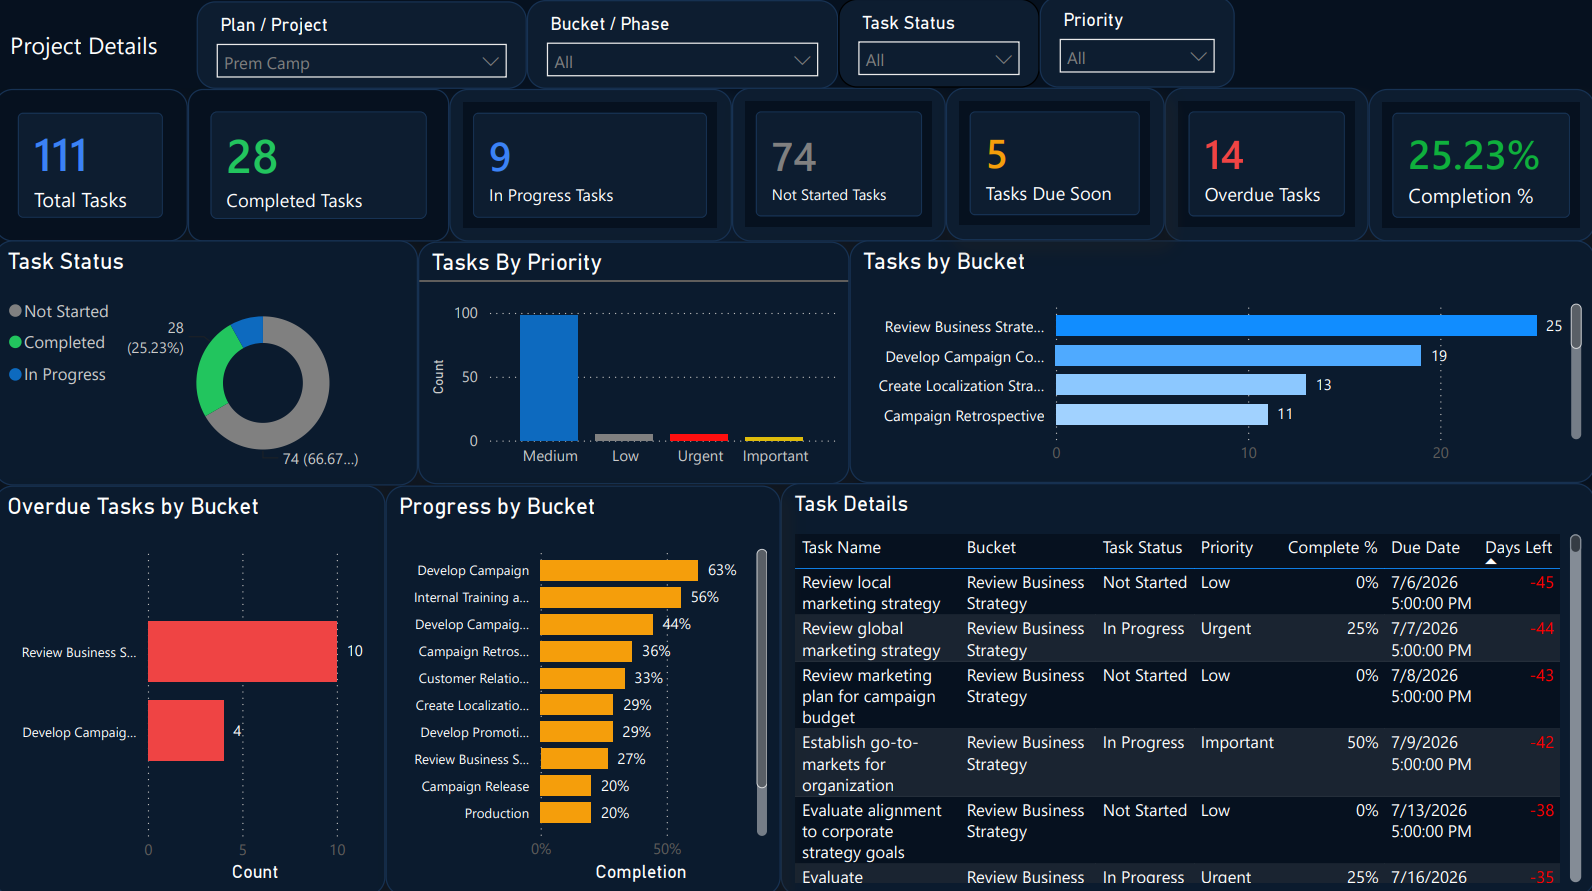

The page's visual inventory and layout, read from the dashboard file:
{"tool":"powerbi","page":{"name":" Premium Project Details","canvas":[1280,720],"ordinal":2},"visuals":[{"type":"cardVisual","title":"a","fields":{"Data":["msdyn_projecttask.Premium Total Tasks"]},"box":[0,74.8,154.7,122.2],"z":0},{"type":"cardVisual","fields":{"Data":["msdyn_projecttask.Premium Completed Tasks"]},"box":[154.7,74.8,209.3,122.2],"z":1000},{"type":"cardVisual","fields":{"Data":["msdyn_projecttask.Premium In Progress Tasks"]},"box":[364,74.8,225.6,122.2],"z":2000},{"type":"cardVisual","fields":{"Data":["msdyn_projecttask.Premium Not Started Tasks"]},"box":[589.6,74.1,171.6,122.9],"z":3000},{"type":"cardVisual","fields":{"Data":["msdyn_projecttask.Premium Overdue Tasks"]},"box":[936.1,74.1,163.2,122.9],"z":4000},{"type":"cardVisual","fields":{"Data":["msdyn_projecttask.Premium Completion %"]},"box":[1099.3,74.8,180.7,122.2],"z":5000},{"type":"donutChart","title":"Task Status","fields":{"Category":["msdyn_projecttask.Premium Task Status"],"Y":["CountNonNull(msdyn_projecttask.Project task ID)"]},"box":[0,196.5,339.3,195.7],"z":6000},{"type":"clusteredColumnChart","title":"Tasks By Priority","fields":{"Category":["msdyn_projecttask.Premium Priority Name"],"Y":["CountNonNull(msdyn_projecttask.Project task ID)"]},"box":[339.3,197.2,344.7,194],"z":7000},{"type":"clusteredBarChart","title":"Tasks by Bucket","fields":{"Category":["msdyn_projecttask.Project Bucket"],"Y":["CountNonNull(msdyn_projecttask.Project task ID)"]},"box":[683.9,195.7,596.1,194.2],"z":8000},{"type":"cardVisual","fields":{"Data":["msdyn_projecttask.Premium Tasks Due Soon"]},"box":[761.3,74.4,174.9,121.3],"z":9000},{"type":"tableEx","title":"Task Details","fields":{"Values":["msdyn_projecttask.Project Task Name","msdyn_projecttask.Project Bucket","msdyn_projecttask.Premium Task Status","msdyn_projecttask.Premium Priority Name","msdyn_projecttask.% Complete","msdyn_projecttask.Due Date","msdyn_projecttask.Days Left"]},"box":[628.8,390,651.2,330.4],"z":10000},{"type":"textbox","title":"Project Details","box":[7.7,4.9,154.3,69.1],"z":11000},{"type":"slicer","fields":{"Values":["msdyn_project.Name"]},"box":[162,4.9,264,69.8],"z":12000},{"type":"slicer","fields":{"Values":["msdyn_projecttask.Project Bucket"]},"box":[426,4.2,249.3,70.5],"z":13000},{"type":"slicer","fields":{"Values":["msdyn_projecttask.Premium Task Status"]},"box":[675.3,2.8,160.6,71.2],"z":14000},{"type":"slicer","fields":{"Values":["msdyn_projecttask.Premium Priority Name"]},"box":[835.9,0.7,156,73.5],"z":15000},{"type":"clusteredBarChart","title":"Overdue Tasks by Bucket","fields":{"Category":["msdyn_projecttask.Project Bucket"],"Y":["msdyn_projecttask.Premium Overdue Tasks"]},"box":[0,392.2,312.6,327.4],"z":16000},{"type":"clusteredBarChart","title":"Progress by Bucket","fields":{"Category":["msdyn_projecttask.Project Bucket"],"Y":["Avg(msdyn_projecttask.% Complete)"]},"box":[312.6,392.2,316.3,327.4],"z":17000}]}

Visuals, with their boxes in screenshot pixels (x1, y1, x2, y2), scaled from the page's 1280x720 canvas onto the 1592x891 screenshot:
"a" cardVisual: <bbox>0, 93, 192, 244</bbox>
cardVisual - msdyn_projecttask.Premium Completed Tasks: <bbox>192, 93, 453, 244</bbox>
cardVisual - msdyn_projecttask.Premium In Progress Tasks: <bbox>453, 93, 733, 244</bbox>
cardVisual - msdyn_projecttask.Premium Not Started Tasks: <bbox>733, 92, 947, 244</bbox>
cardVisual - msdyn_projecttask.Premium Overdue Tasks: <bbox>1164, 92, 1367, 244</bbox>
cardVisual - msdyn_projecttask.Premium Completion %: <bbox>1367, 93, 1591, 244</bbox>
"Task Status" donutChart: <bbox>0, 243, 422, 485</bbox>
"Tasks By Priority" clusteredColumnChart: <bbox>422, 244, 851, 484</bbox>
"Tasks by Bucket" clusteredBarChart: <bbox>851, 242, 1591, 483</bbox>
cardVisual - msdyn_projecttask.Premium Tasks Due Soon: <bbox>947, 92, 1164, 242</bbox>
"Task Details" tableEx: <bbox>782, 483, 1591, 890</bbox>
"Project Details" textbox: <bbox>10, 6, 201, 92</bbox>
slicer - msdyn_project.Name: <bbox>201, 6, 530, 92</bbox>
slicer - msdyn_projecttask.Project Bucket: <bbox>530, 5, 840, 92</bbox>
slicer - msdyn_projecttask.Premium Task Status: <bbox>840, 3, 1040, 92</bbox>
slicer - msdyn_projecttask.Premium Priority Name: <bbox>1040, 1, 1234, 92</bbox>
"Overdue Tasks by Bucket" clusteredBarChart: <bbox>0, 485, 389, 890</bbox>
"Progress by Bucket" clusteredBarChart: <bbox>389, 485, 782, 890</bbox>
